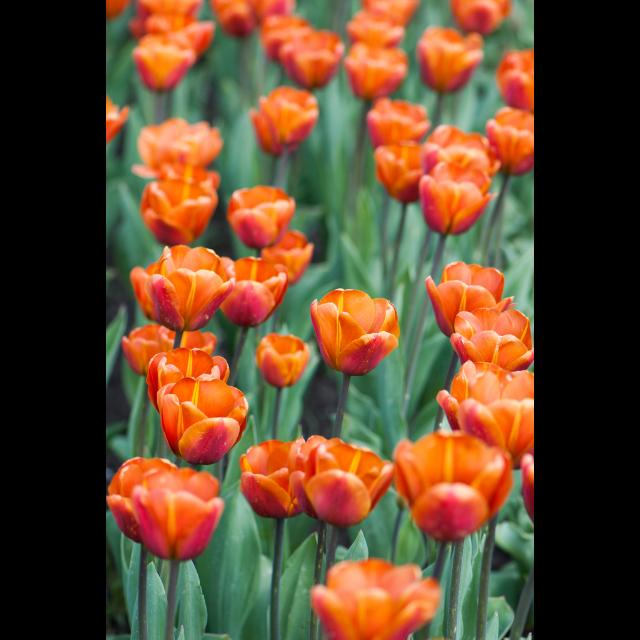Flower: (392, 432, 514, 546), (210, 0, 338, 91), (310, 555, 440, 639), (438, 356, 534, 466), (288, 434, 390, 530), (309, 279, 405, 376), (133, 464, 224, 564), (129, 245, 233, 328), (157, 378, 250, 464), (130, 0, 214, 92), (426, 260, 510, 336), (106, 454, 174, 540), (448, 308, 534, 370), (238, 442, 306, 520), (120, 322, 220, 374), (248, 84, 318, 158), (138, 180, 216, 246), (148, 344, 226, 410), (216, 256, 288, 326), (419, 176, 499, 236), (418, 28, 487, 92), (226, 187, 290, 249), (426, 124, 500, 174), (371, 140, 423, 210), (484, 106, 534, 176), (346, 41, 406, 95), (264, 228, 314, 292), (258, 334, 308, 386), (498, 48, 534, 112), (450, 0, 512, 34), (346, 10, 404, 46)
